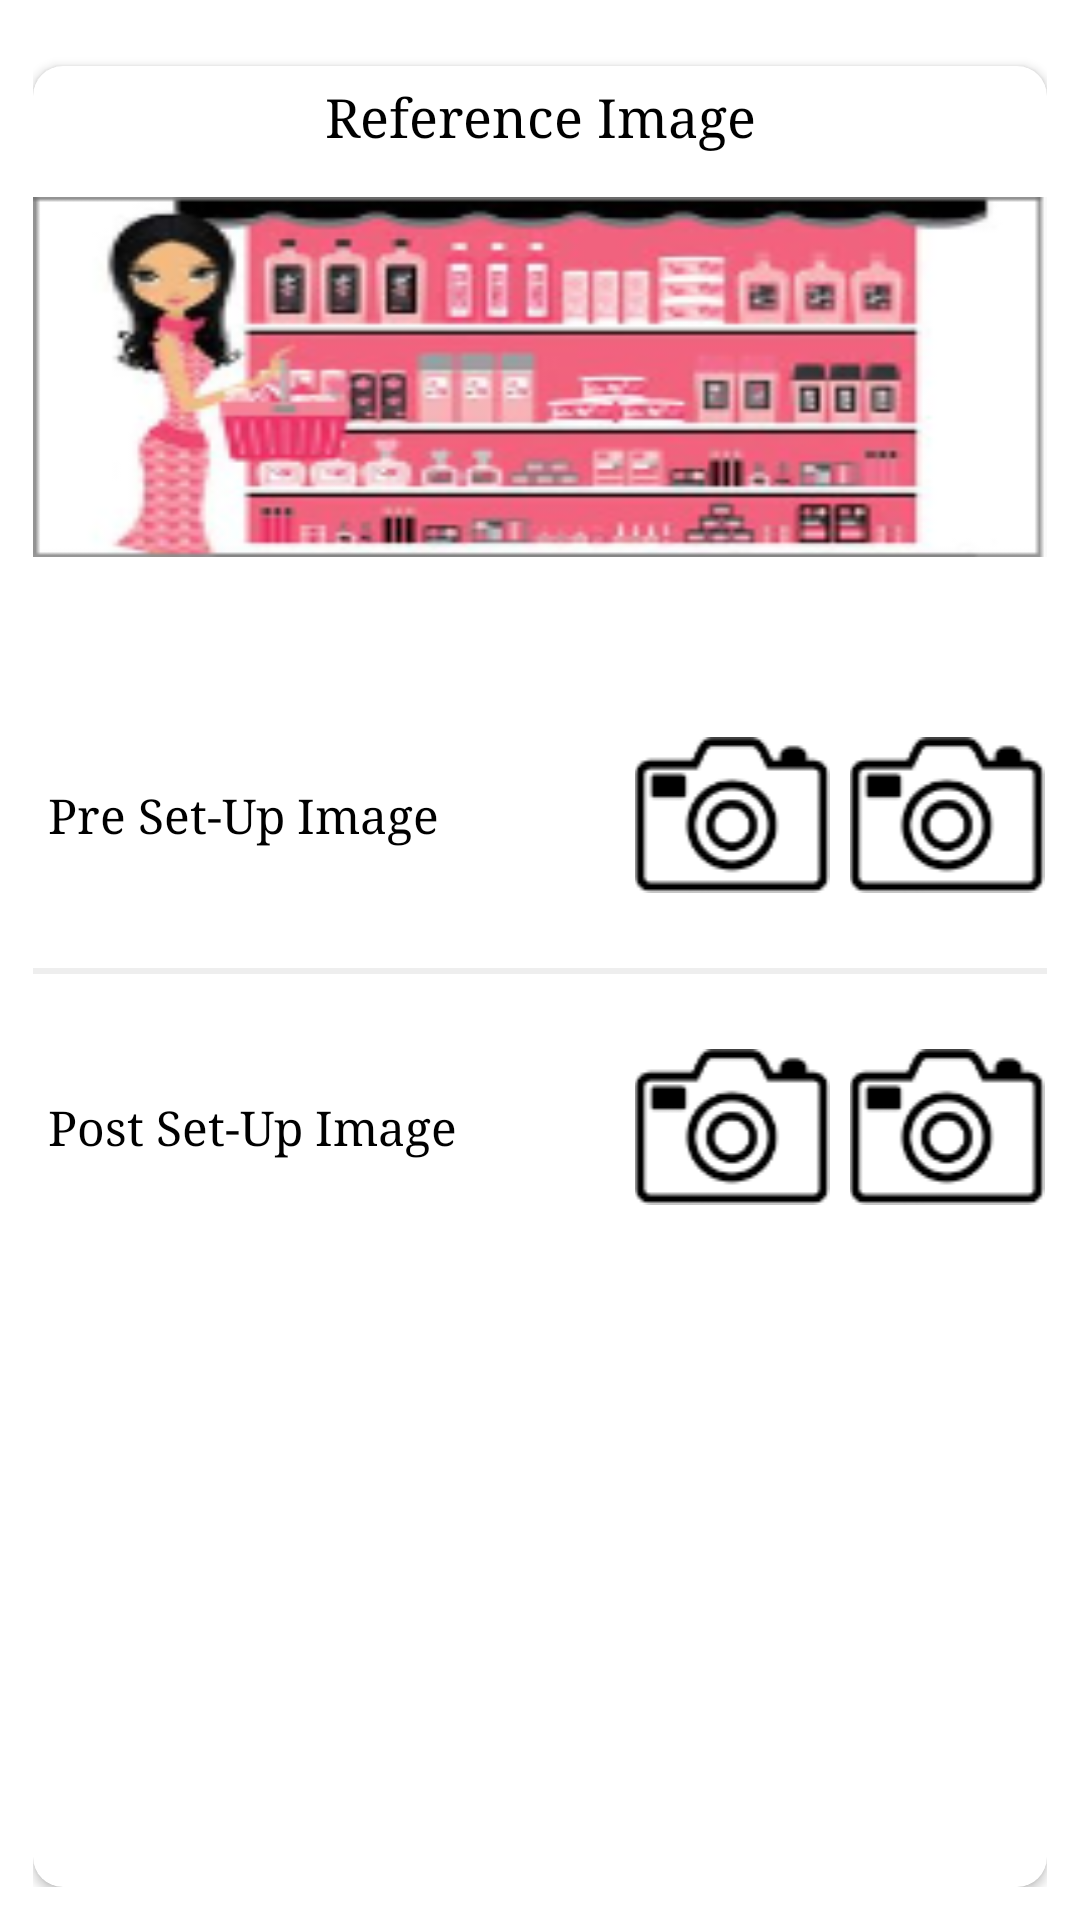

Screen size 1080 × 1920. Icon name, then its box in pixels as Rect(x1, y1, x2, y2):
camera: Rect(635, 737, 830, 893), Rect(850, 737, 1045, 893), Rect(635, 1049, 830, 1205), Rect(850, 1049, 1045, 1205)
